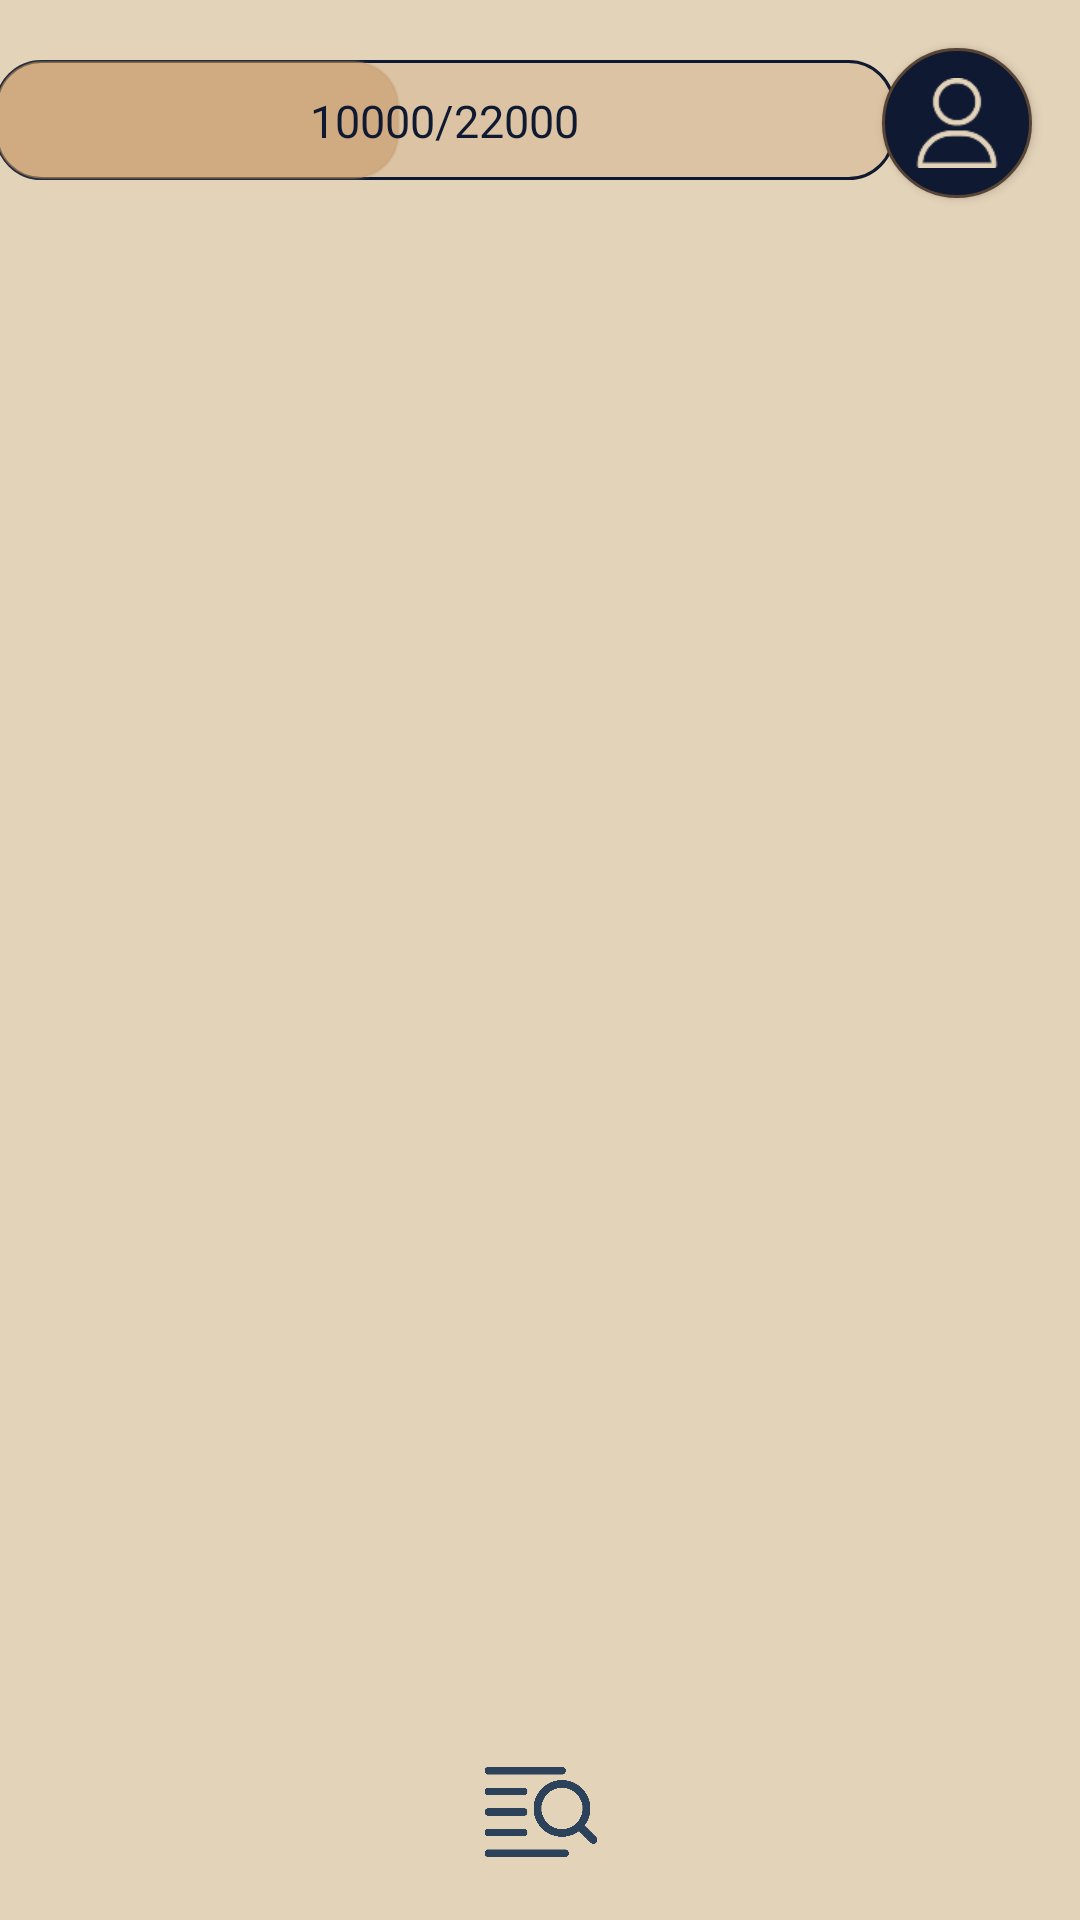

Where to tap for icons on this 1080w x 1920h app screen, as point (x, y):
search: point (541, 1812)
user: point (957, 123)
